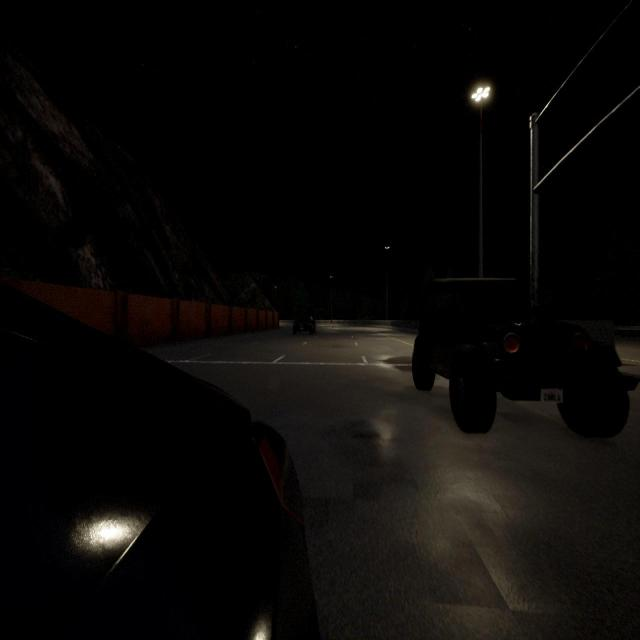Vehicle: (0, 286, 318, 640), (411, 274, 631, 444), (292, 312, 315, 336)
